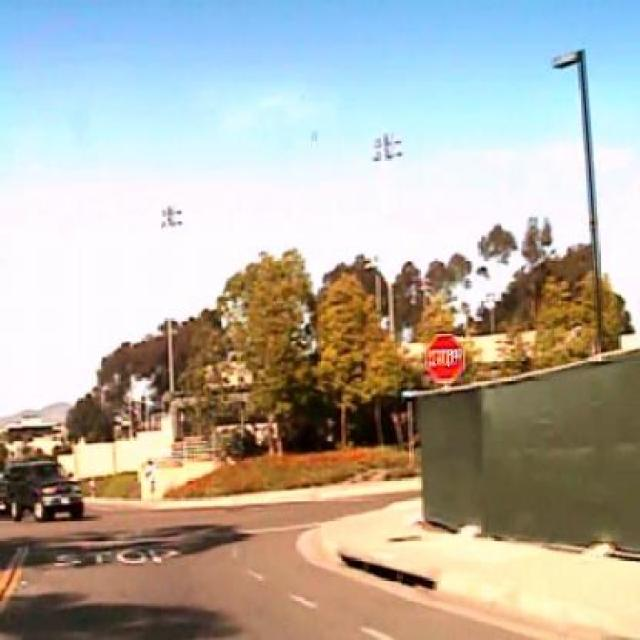stop: (425, 336, 464, 384)
